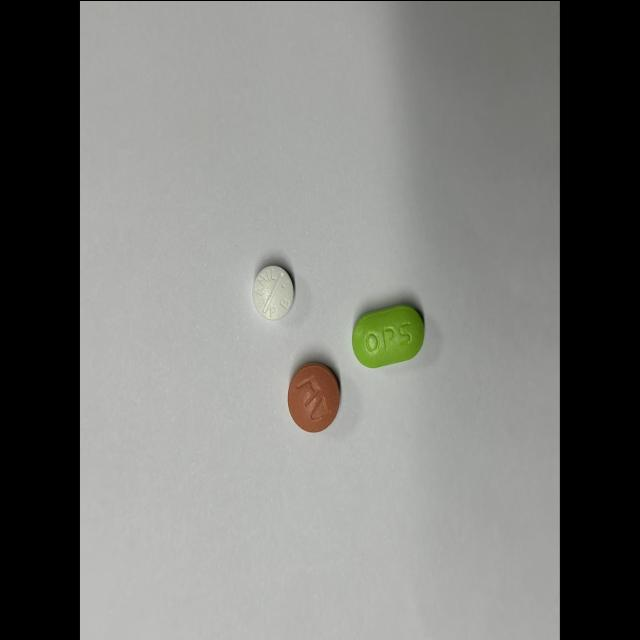Piller: (352, 305, 424, 367), (288, 362, 340, 432), (252, 265, 294, 318)
